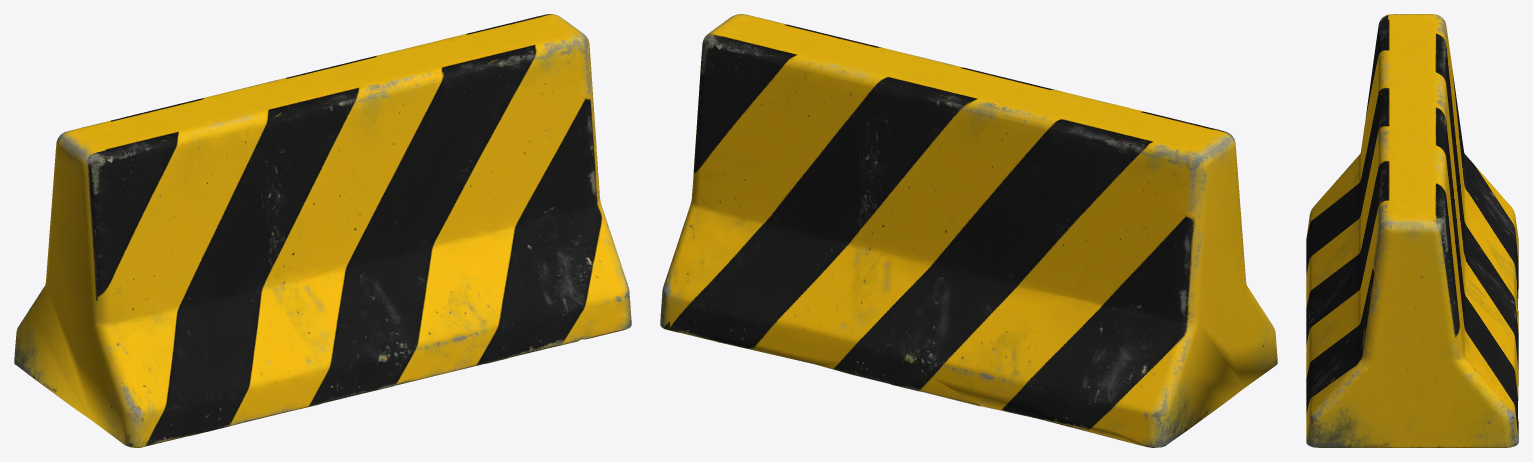
The model's file is barrier.glb.
The picture shows the model from 3 angles, left to right: view 1: azimuth 30°, elevation 25°; view 2: azimuth 150°, elevation 25°; view 3: azimuth 270°, elevation 25°; orthographic projection. The views are drawn at different scales.
Visible parts, largest first — view 1: Mesh_0; view 2: Mesh_0; view 3: Mesh_0.
Part boxes in pixels (<box>): Mesh_0: <box>14,14,631,447</box>; Mesh_0: <box>660,14,1277,447</box>; Mesh_0: <box>1306,14,1518,447</box>.
Size of the model in its own units: 1.9 by 0.9348 by 0.8006.
1 material, 1 textured.
